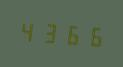four: (18, 17, 38, 45)
six: (60, 19, 80, 48), (81, 21, 101, 49)
three: (39, 18, 59, 46)
